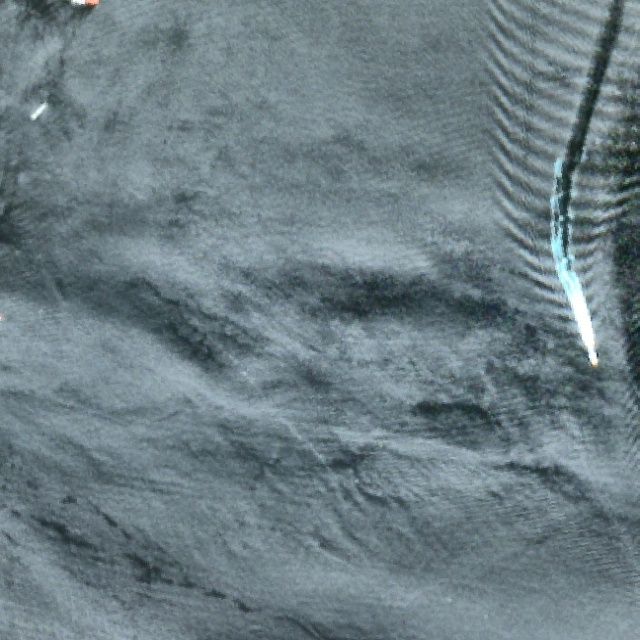wake: (481, 75, 637, 376)
